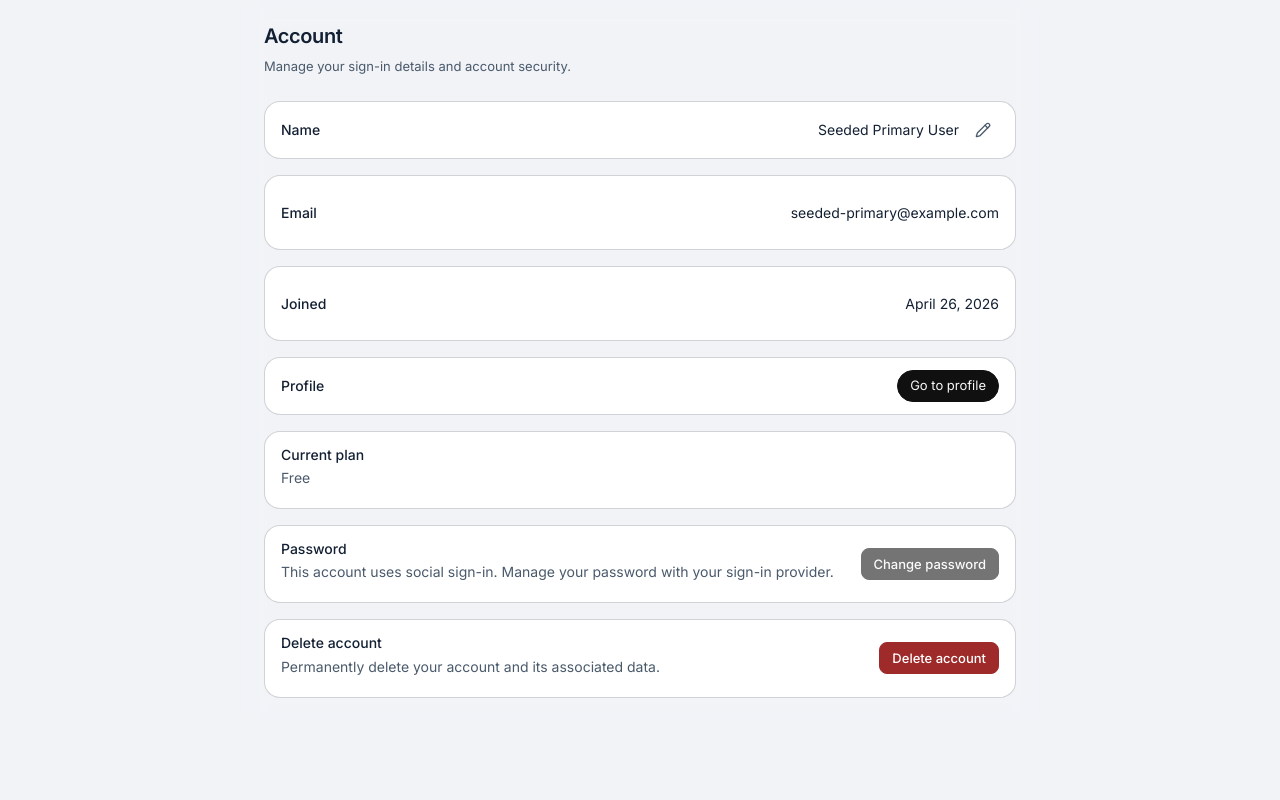
Test: SettingsPage developers scenario › requires emailed code and retains actionable deletion failure for retry
Click the button "Delete account" at (939, 658), box [879,642,999,674]
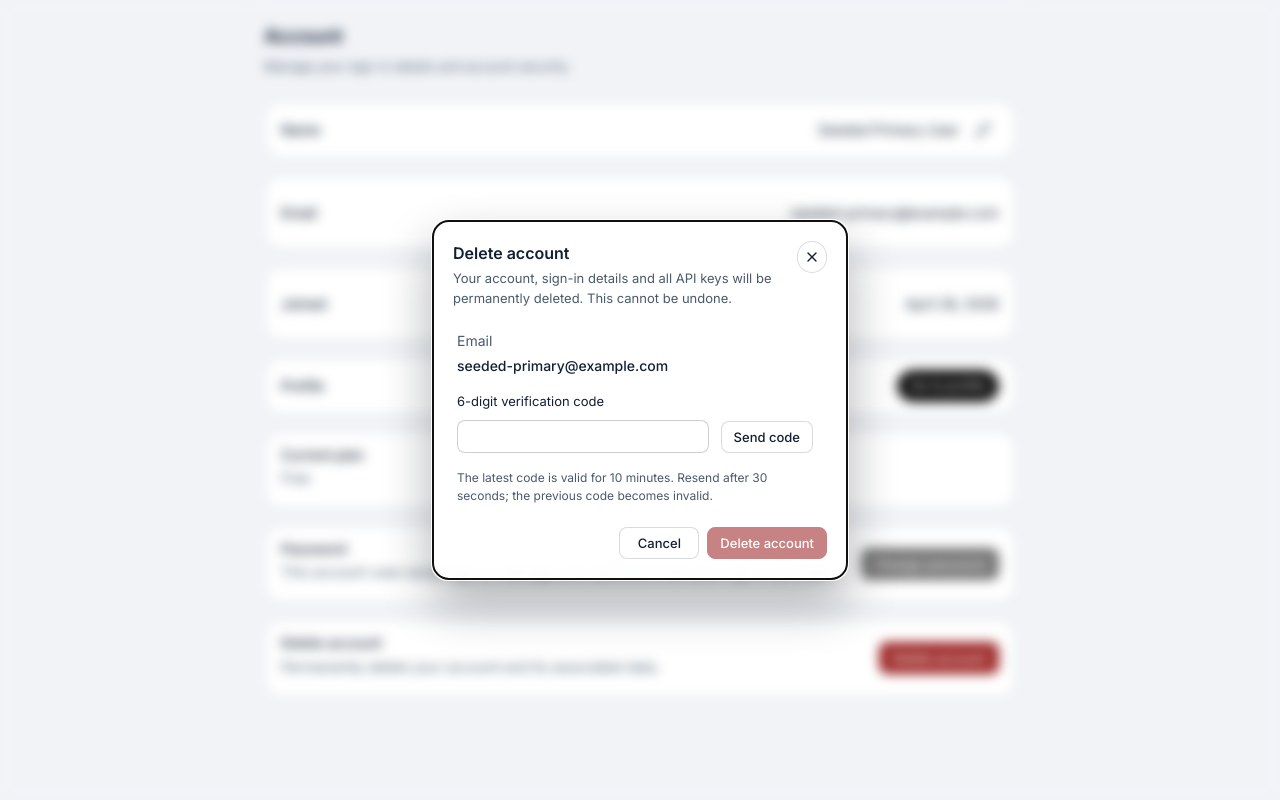
Result: the button "Delete account" is disabled at [707,527,827,559]
the confirmation matches the current identity.
Click the button "Send code" at (767, 437), box [721,421,813,453]
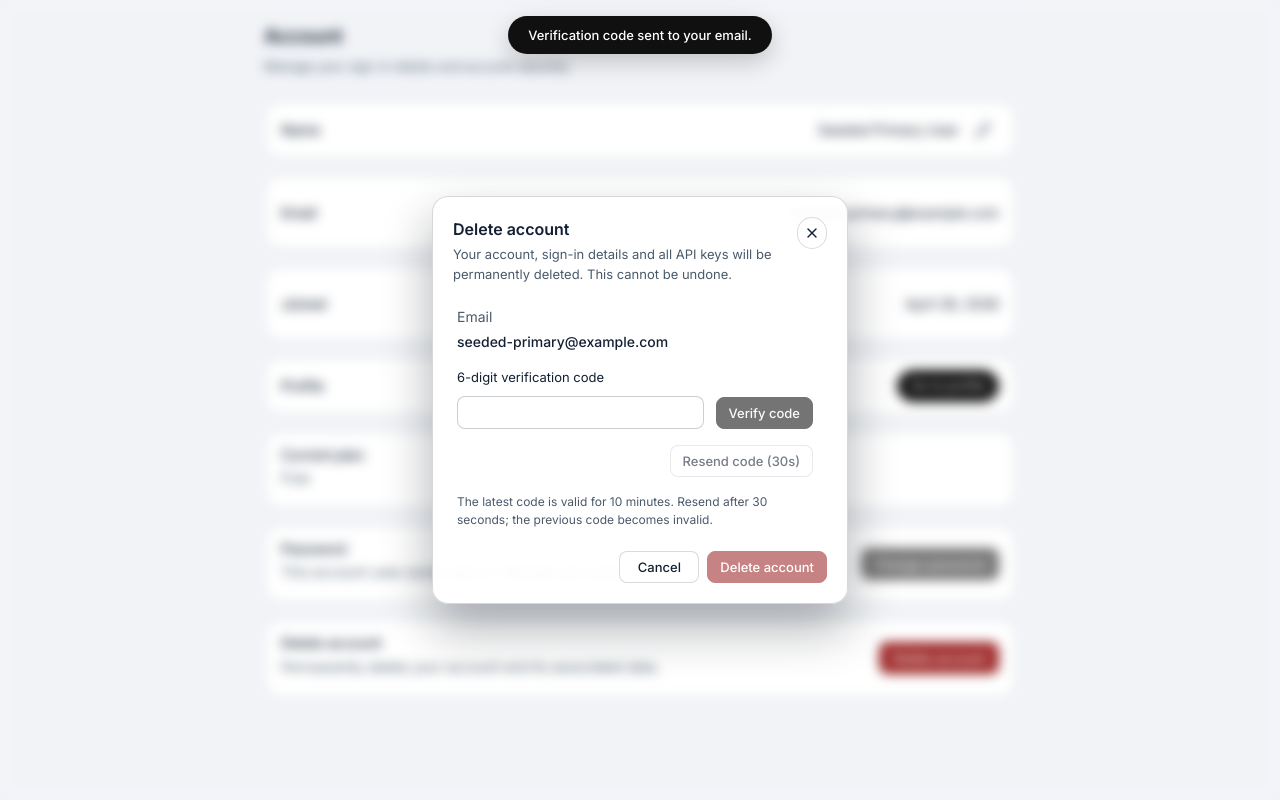
Result: the field labelled "6-digit verification code" is enabled
Type "123456" into the field labelled "6-digit verification code" at (580, 412), box [457,396,704,429]
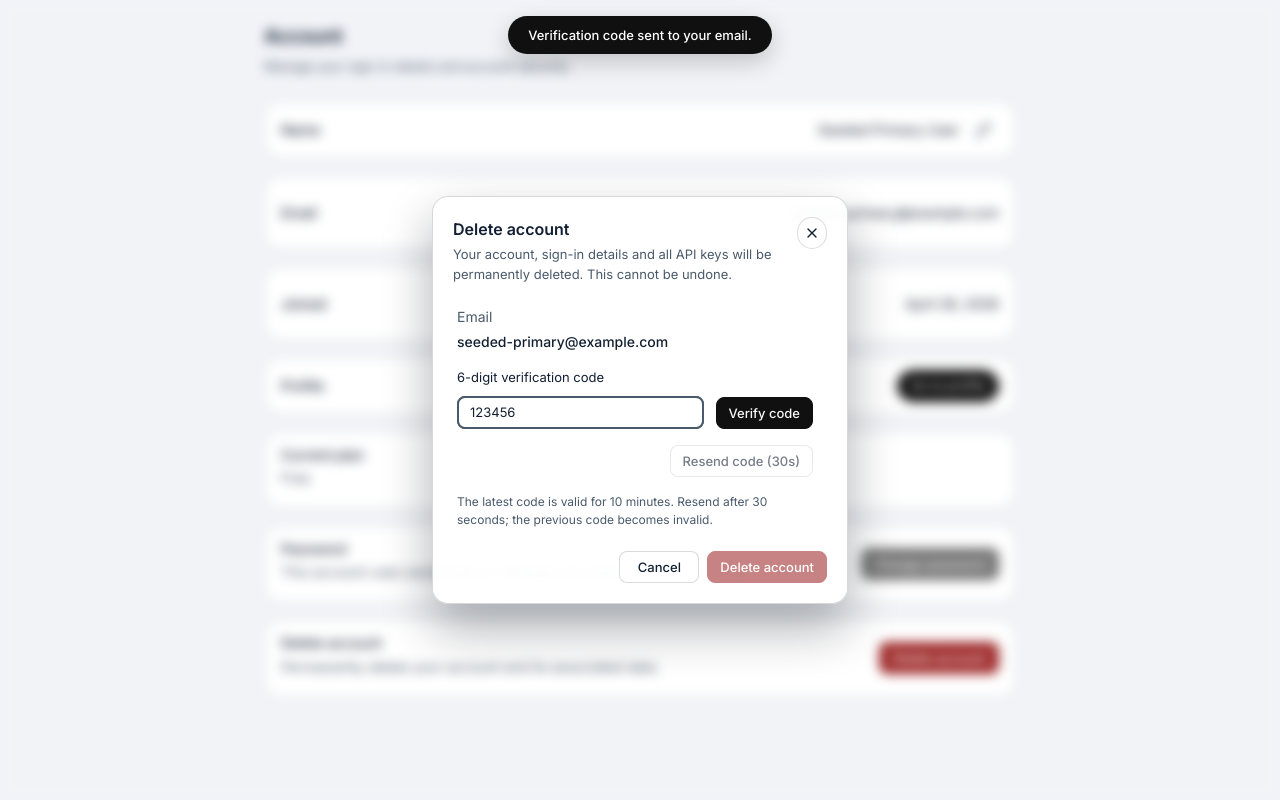
Click the button "Verify code" at (764, 413), box [716,397,813,429]
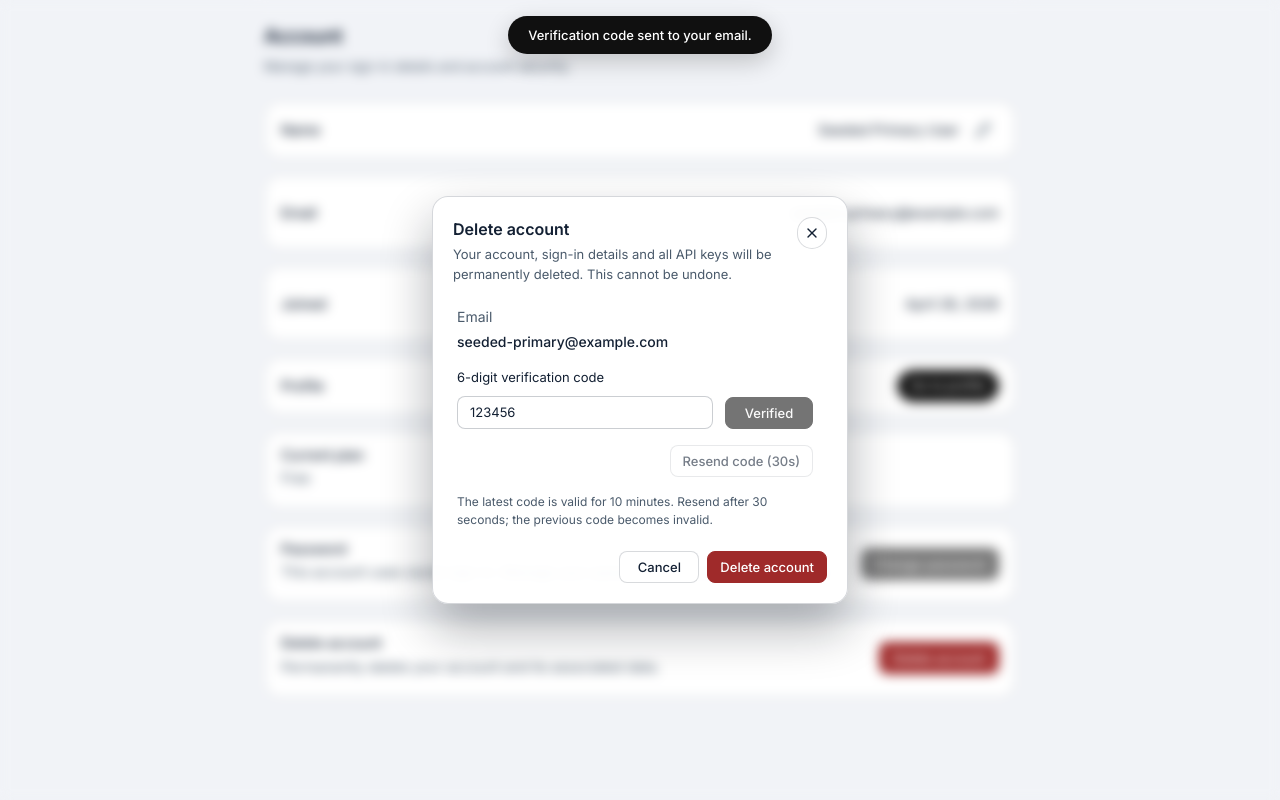
Result: the button "Delete account" is enabled
Click the button "Delete account" at (767, 567), box [707,551,827,583]
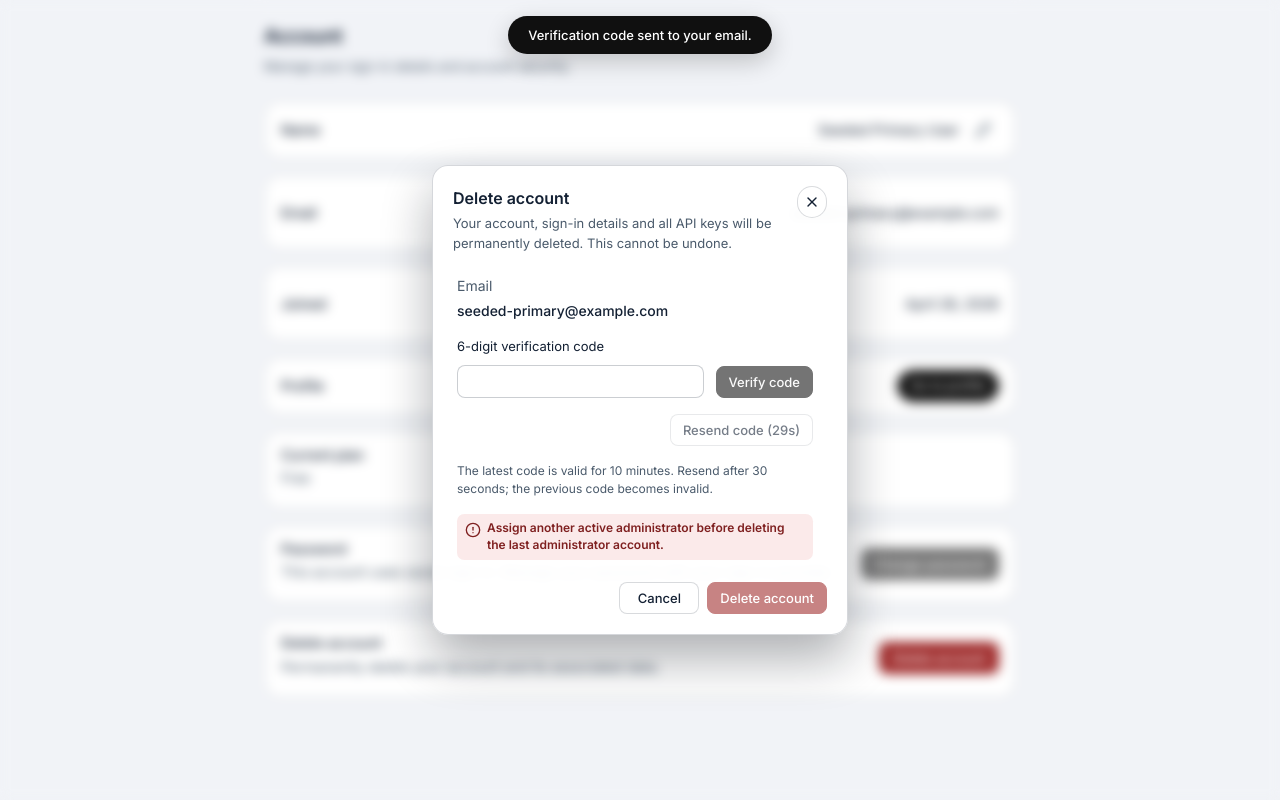
Result: the button "Delete account" is disabled at [707,582,827,614]
